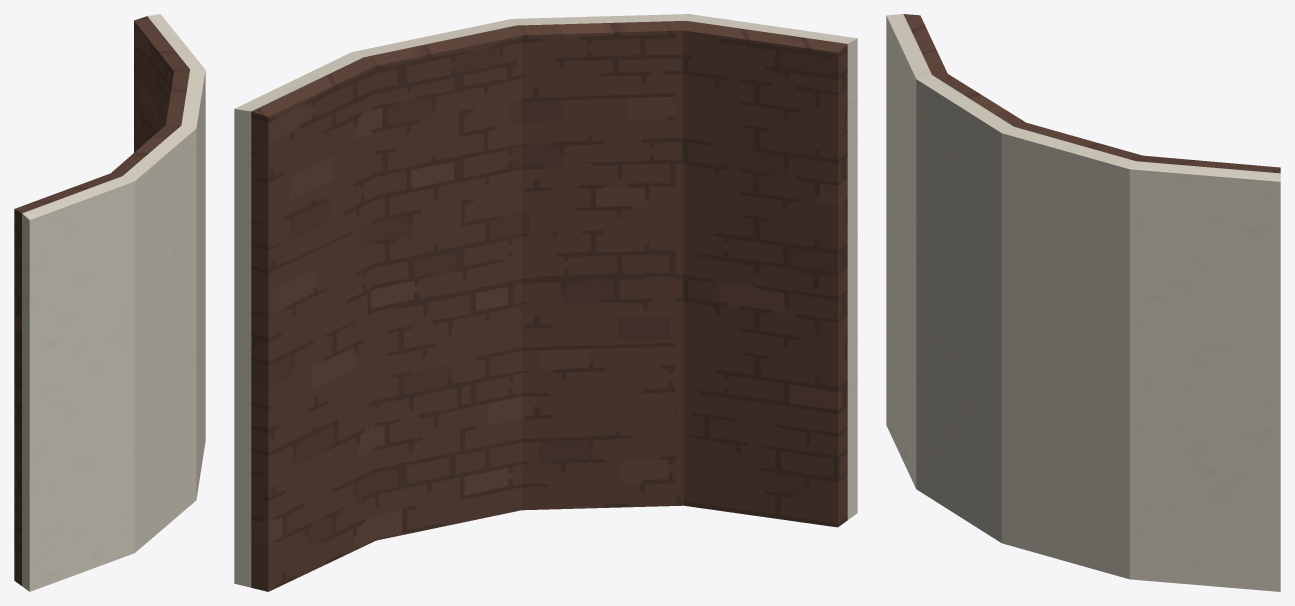
Rendered from SM_Bld_Base_Wall_Round_01.obj.
3 renders of one model, left to right at view 1: azimuth 30°, elevation 25°; view 2: azimuth 150°, elevation 25°; view 3: azimuth 270°, elevation 25°, orthographic. The views are drawn at different scales.
Visible parts, largest first — view 1: SM_Bld_Base_Wall_Round_01_0, SM_Bld_Base_Wall_Round_01_1; view 2: SM_Bld_Base_Wall_Round_01_1, SM_Bld_Base_Wall_Round_01_0; view 3: SM_Bld_Base_Wall_Round_01_0, SM_Bld_Base_Wall_Round_01_1.
Boxes of the visible parts, bbox=[...] form: SM_Bld_Base_Wall_Round_01_0: bbox=[22, 14, 205, 591]; SM_Bld_Base_Wall_Round_01_1: bbox=[14, 16, 189, 585]; SM_Bld_Base_Wall_Round_01_1: bbox=[251, 20, 847, 591]; SM_Bld_Base_Wall_Round_01_0: bbox=[234, 14, 857, 587]; SM_Bld_Base_Wall_Round_01_0: bbox=[886, 14, 1280, 591]; SM_Bld_Base_Wall_Round_01_1: bbox=[903, 14, 1280, 173].
Size of the model in its own units: 2.61 by 3.01 by 2.61.
2 materials, 2 textured.
